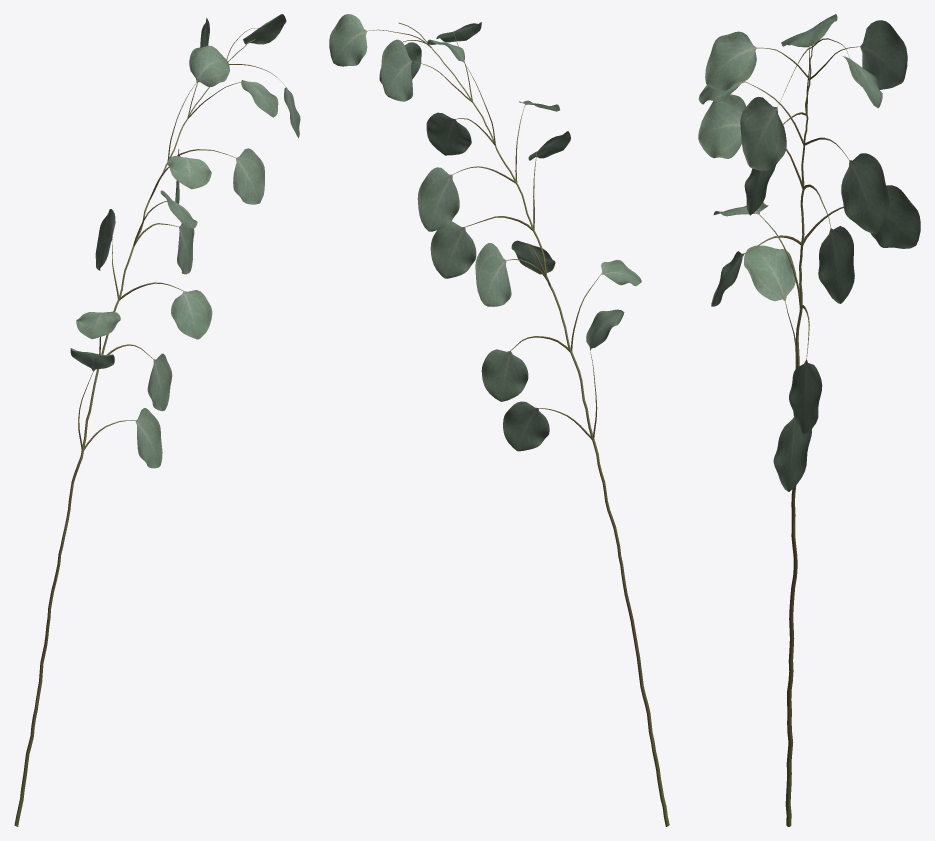
File: eucalyptus.glb
The picture shows the model from 3 angles, left to right: view 1: azimuth 30°, elevation 25°; view 2: azimuth 150°, elevation 25°; view 3: azimuth 270°, elevation 25°; orthographic projection. The views are drawn at different scales.
Visible parts, largest first — view 1: Object_9, Object_8; view 2: Object_9, Object_8; view 3: Object_9, Object_8.
Boxes of the visible parts, bbox=[...] form: Object_9: bbox=[70, 14, 300, 468]; Object_8: bbox=[14, 28, 284, 826]; Object_9: bbox=[329, 14, 641, 451]; Object_8: bbox=[367, 22, 669, 826]; Object_9: bbox=[698, 14, 920, 491]; Object_8: bbox=[745, 38, 860, 826].
Bounding box in the file's own units: 0.4286 × 1 × 0.2122.
2 materials, 2 textured.
